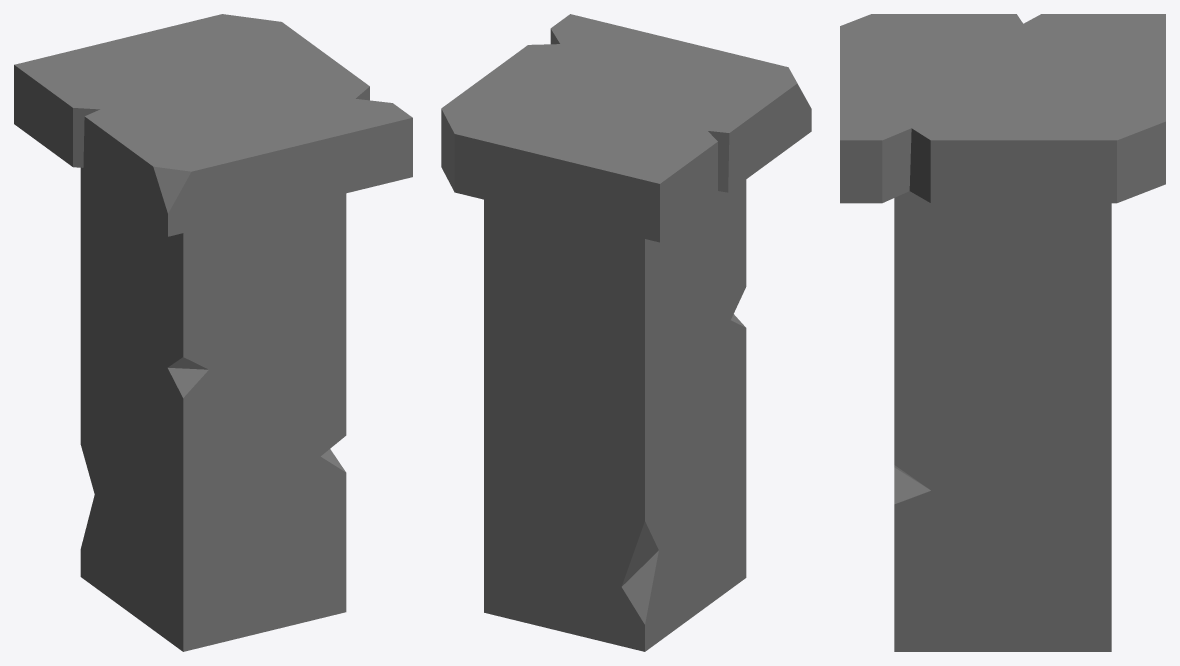
File: stone_pillar1.fbx
3 renders of one model, left to right at view 1: azimuth 30°, elevation 25°; view 2: azimuth 150°, elevation 25°; view 3: azimuth 270°, elevation 25°, orthographic. The views are drawn at different scales.
Visible parts, largest first — view 1: stone_pillar1; view 2: stone_pillar1; view 3: stone_pillar1.
Part boxes in pixels (bbox=[...]): stone_pillar1: bbox=[14, 14, 412, 651]; stone_pillar1: bbox=[441, 14, 811, 651]; stone_pillar1: bbox=[840, 14, 1165, 651].
Bounding box in the file's own units: 87.27 × 171 × 95.03.
